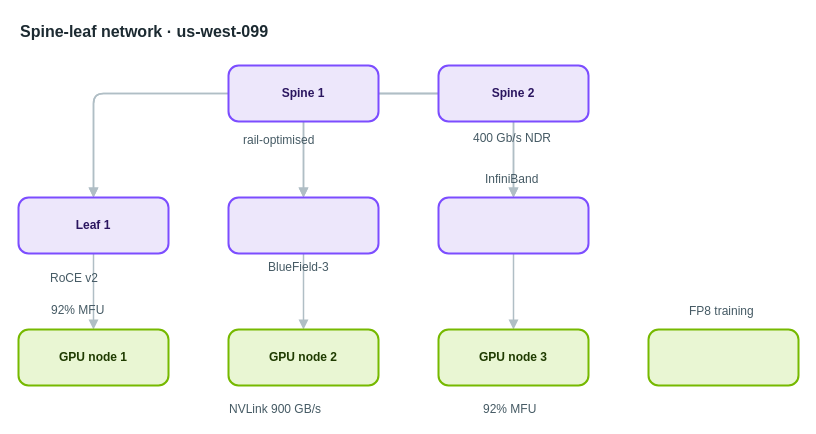
This 816x434 diagram has some shape labels left out. The centre of each missing label's shape, as x and y in pixels:
"GPU node 4" belongs at (x=723, y=357).
"Leaf 2" belongs at (x=303, y=225).
"Leaf 3" belongs at (x=513, y=225).
